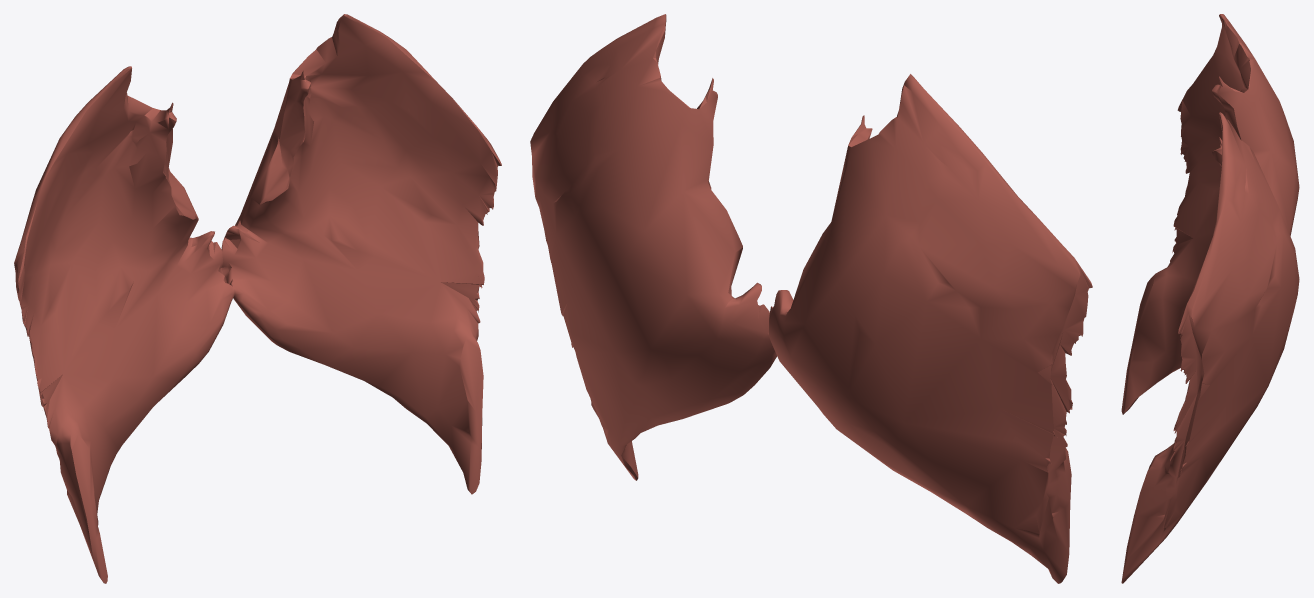
File: gluteus_maximus.glb
The picture shows the model from 3 angles, left to right: view 1: azimuth 30°, elevation 25°; view 2: azimuth 150°, elevation 25°; view 3: azimuth 270°, elevation 25°; orthographic projection. The views are drawn at different scales.
Visible parts, largest first — view 1: Gluteus Maximus; view 2: Gluteus Maximus; view 3: Gluteus Maximus.
Part boxes in pixels (left/top/right/bottom): Gluteus Maximus: left=14, top=14, right=501, bottom=583; Gluteus Maximus: left=530, top=14, right=1092, bottom=583; Gluteus Maximus: left=1121, top=14, right=1299, bottom=583.
Size of the model in its own units: 0.2908 by 0.2648 by 0.0979.
